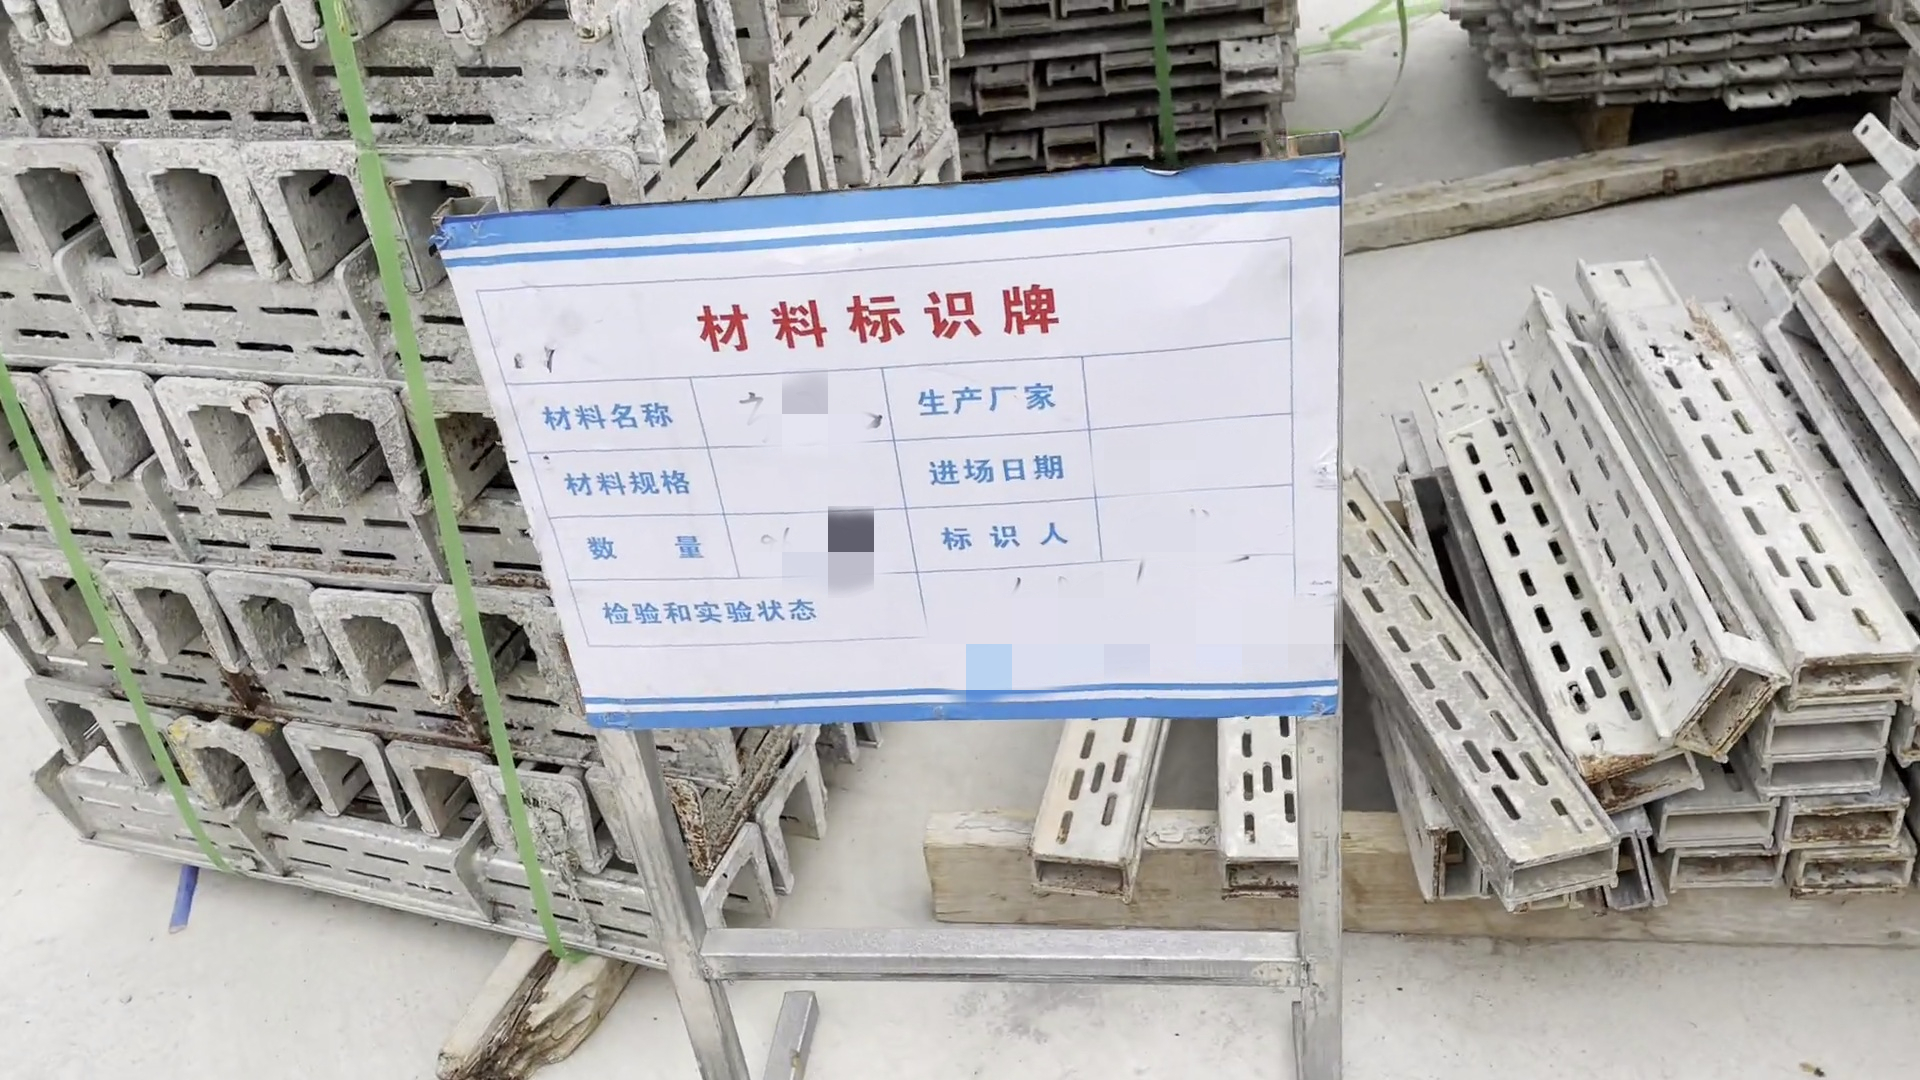slogan: (392, 120, 1455, 796)
